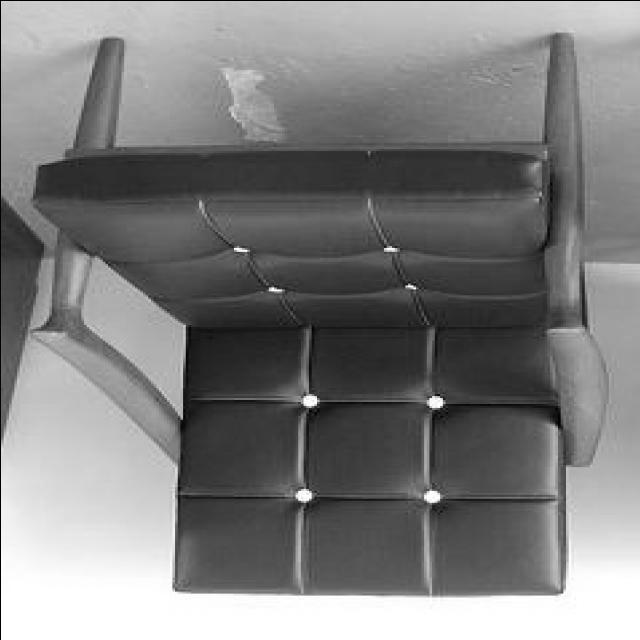chair: (32, 37, 610, 594)
